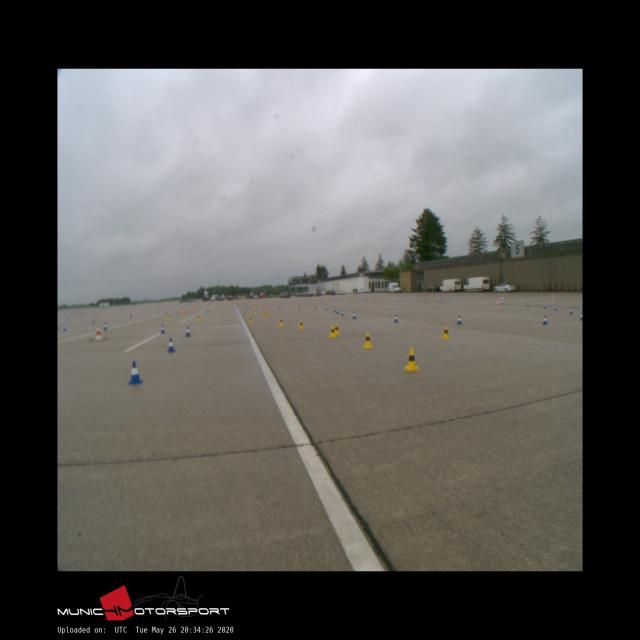blue_cone: (127, 361, 142, 383), (167, 338, 176, 352), (160, 324, 166, 334), (185, 327, 191, 336), (542, 316, 548, 324), (394, 314, 399, 323), (457, 316, 462, 324), (104, 322, 108, 330), (352, 312, 357, 318), (570, 307, 574, 314), (554, 304, 557, 310), (580, 312, 582, 320)
yellow_cone: (404, 348, 418, 371), (362, 332, 372, 347), (442, 326, 450, 339), (329, 326, 336, 338), (334, 323, 339, 334), (299, 320, 304, 330), (279, 317, 284, 325), (248, 315, 252, 323), (197, 315, 201, 321)
